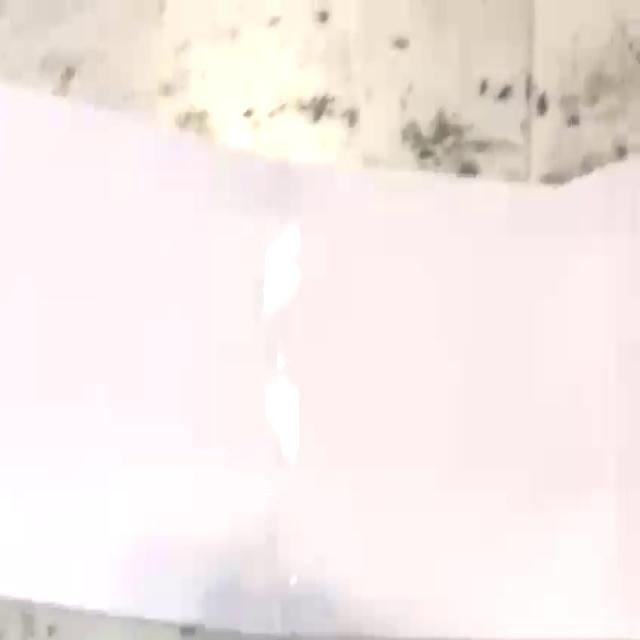road: (0, 83, 640, 638)
